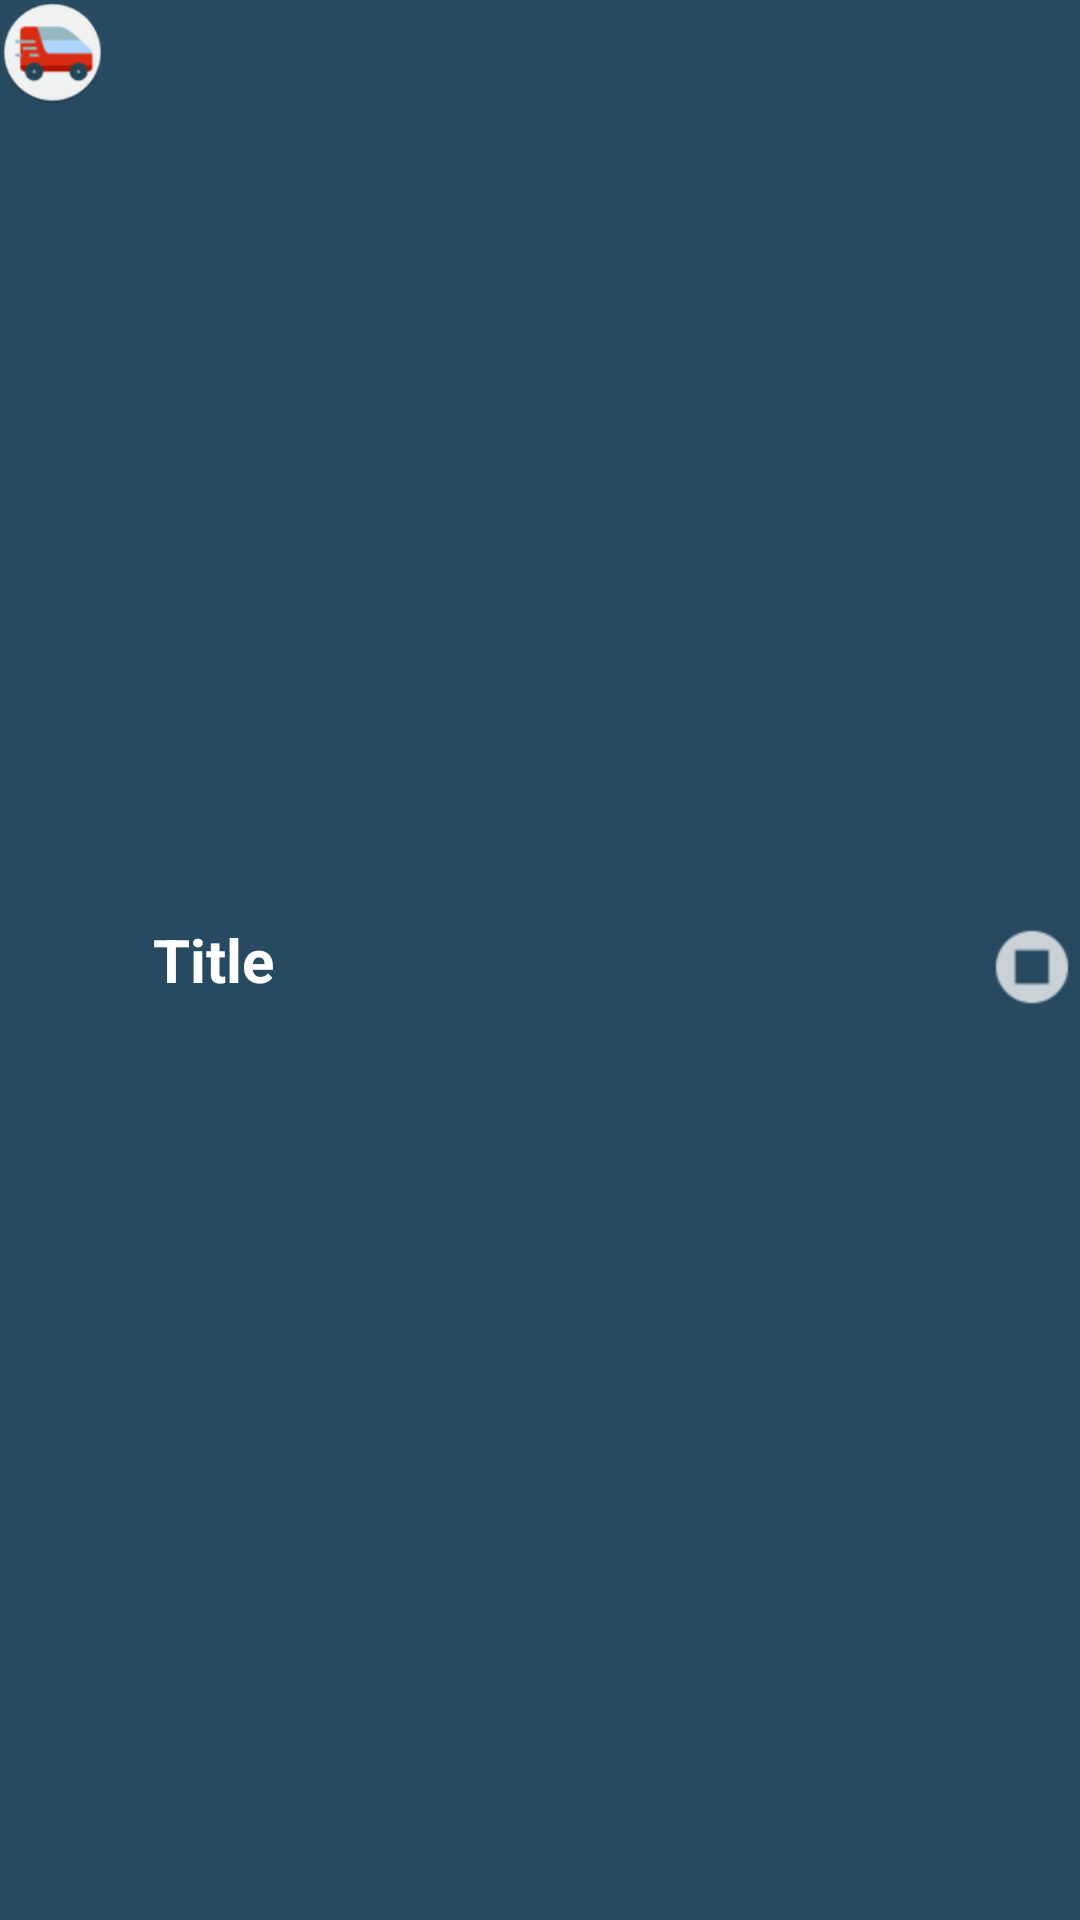

Point at icon controls on the screen. Image size 1080 × 1920, points as (x=x, y=y).
stop: (x=1032, y=967)
